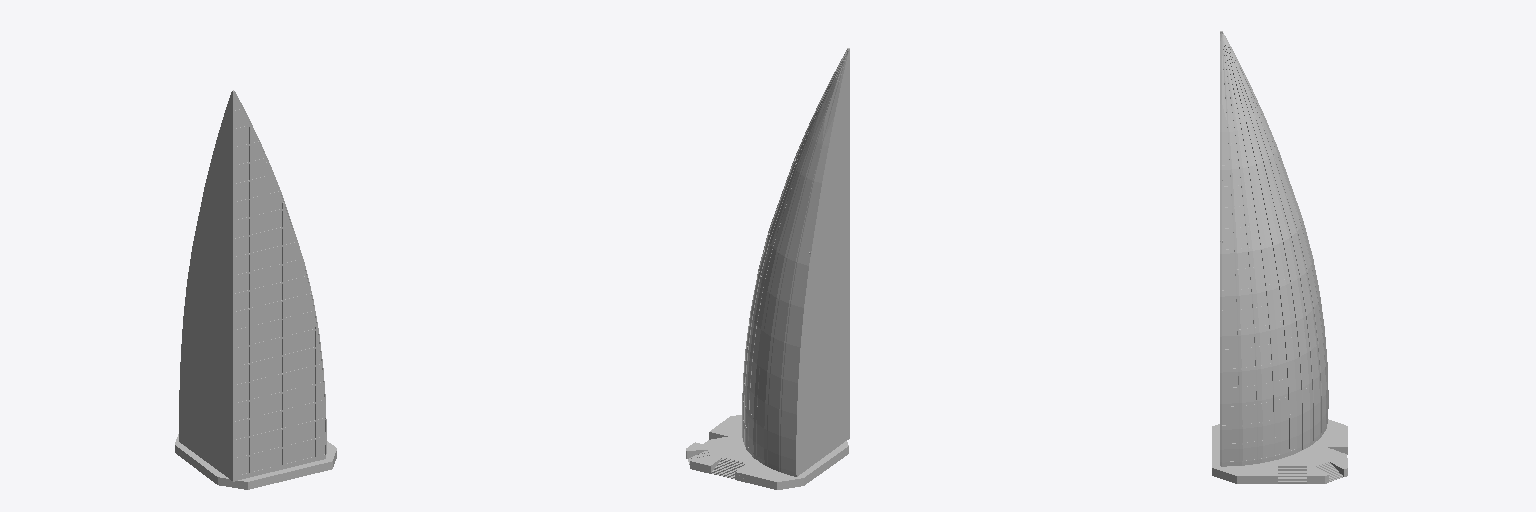
The model's file is sykyscraper.obj.
The picture shows the model from 3 angles: view 1: azimuth 30°, elevation 25°; view 2: azimuth 150°, elevation 25°; view 3: azimuth 270°, elevation 25°; orthographic projection.
Visible parts, largest first — view 1: glass_glass.002, colonne_colonne.001, floors_floors.001, base_base.001; view 2: glass_glass.002, base_base.001, montanti_montanti.001, colonne_colonne.001; view 3: glass_glass.002, montanti_montanti.001, base_base.001, floors_floors.001.
Part boxes in pixels (x1,y1,x2,y2): glass_glass.002: (179, 92, 325, 479); colonne_colonne.001: (184, 90, 317, 480); floors_floors.001: (189, 92, 325, 481); base_base.001: (175, 434, 336, 489); glass_glass.002: (743, 51, 848, 476); base_base.001: (686, 415, 848, 489); montanti_montanti.001: (742, 49, 848, 476); colonne_colonne.001: (801, 48, 849, 473); glass_glass.002: (1222, 36, 1328, 461); montanti_montanti.001: (1220, 33, 1328, 466); base_base.001: (1212, 419, 1347, 483); floors_floors.001: (1222, 54, 1323, 466).
Size of the model in its own units: 0.8854 by 2.82 by 0.8682.